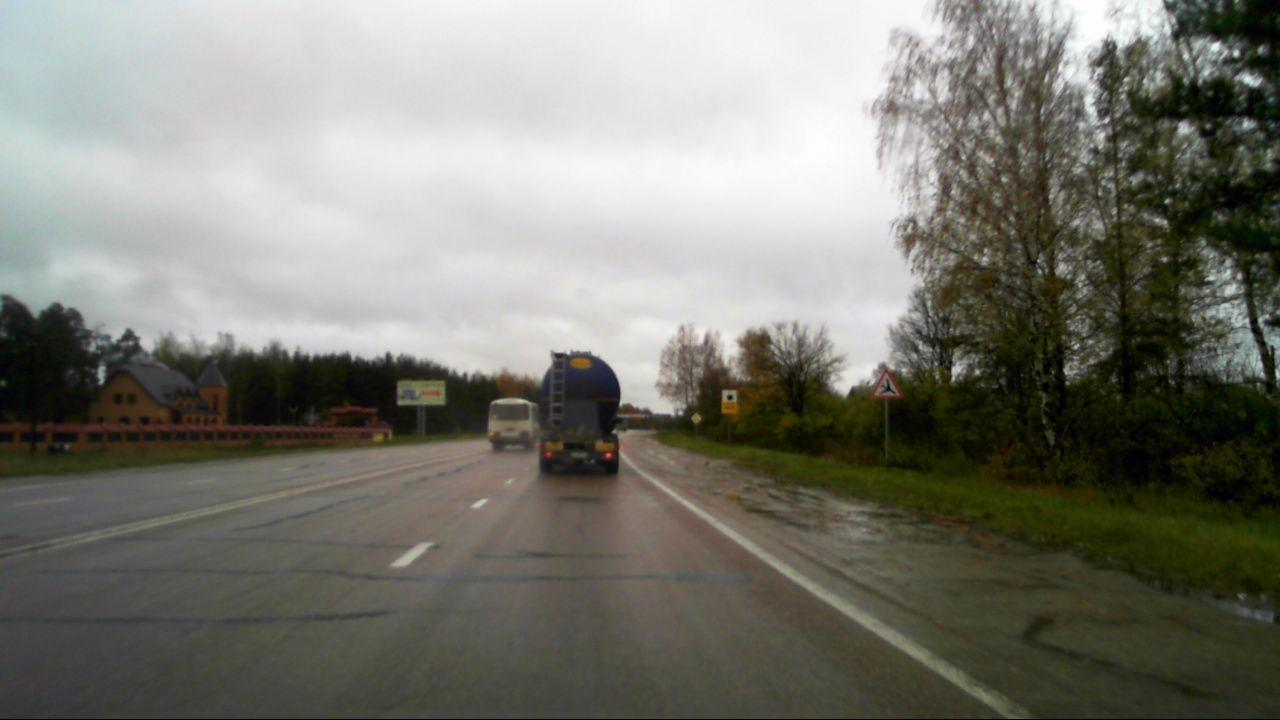1_30: (869, 364, 909, 404)
